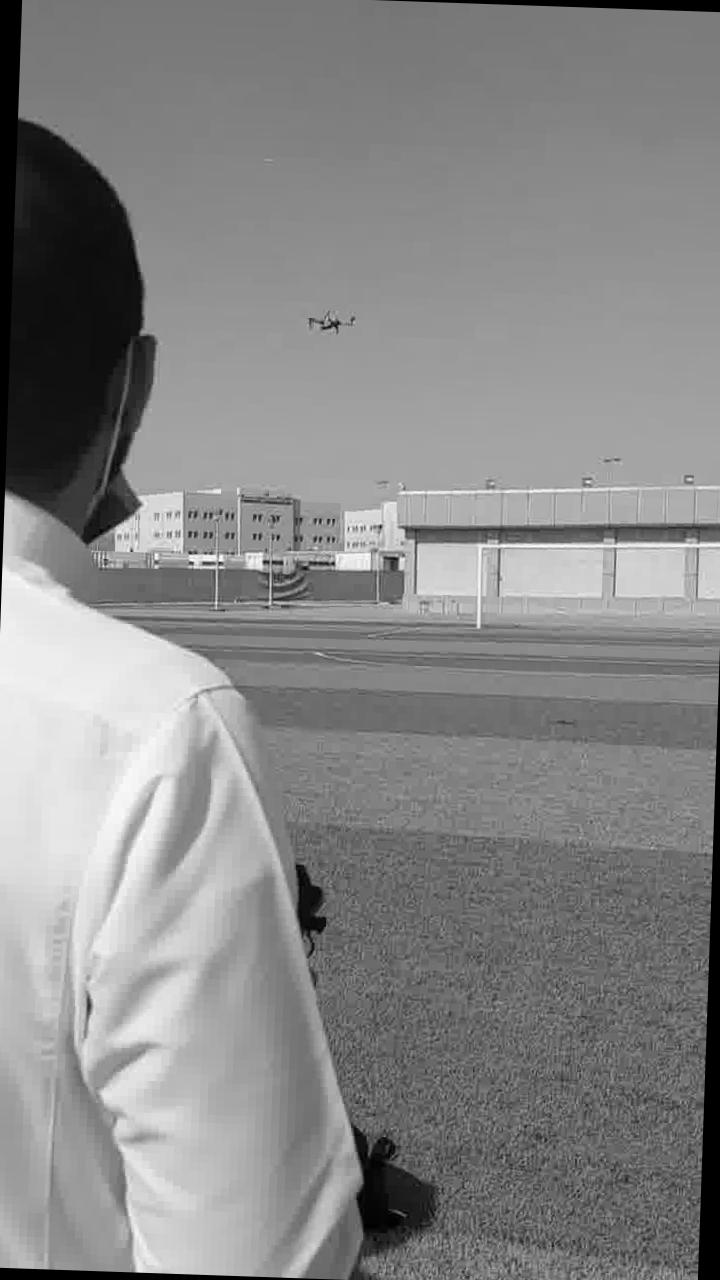drone: (300, 296, 354, 340)
